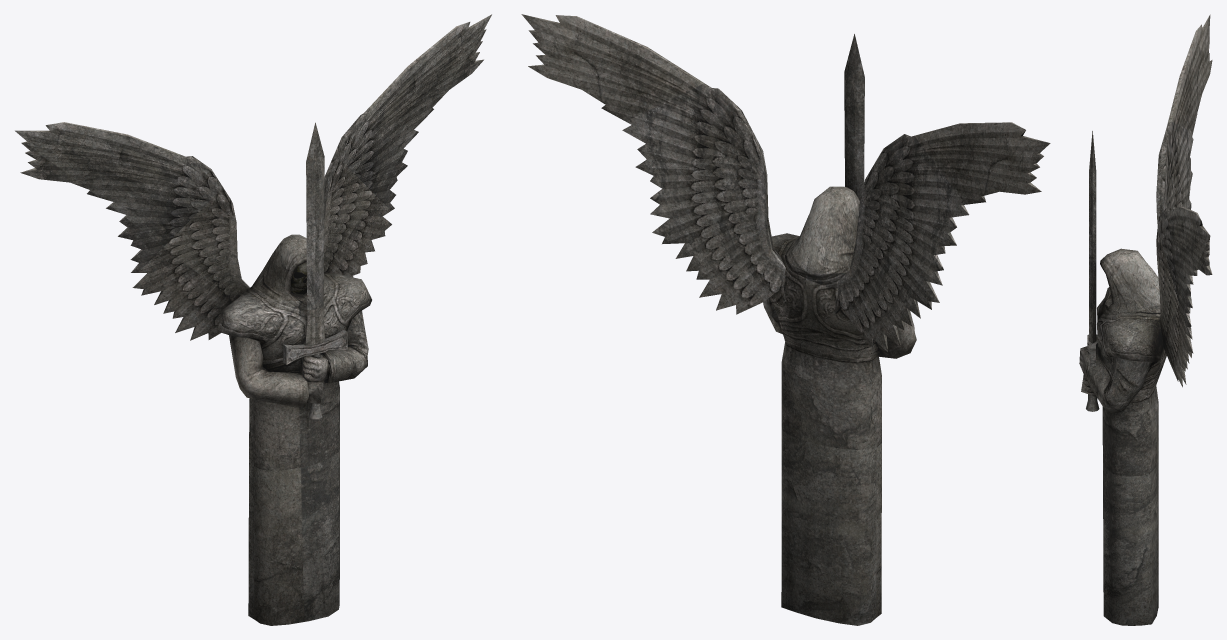
File: Statue2.fbx
3 views of the same model, side by side, from view 1: azimuth 30°, elevation 25°; view 2: azimuth 150°, elevation 25°; view 3: azimuth 270°, elevation 25° (orthographic). The views are drawn at different scales.
Parts seen in each view (by area): view 1: polySurface1128; view 2: polySurface1128; view 3: polySurface1128.
Boxes of the visible parts, box(x1,y1,x2,y2) form: polySurface1128: box(15, 14, 491, 625); polySurface1128: box(521, 14, 1050, 625); polySurface1128: box(1079, 14, 1212, 625).
Size of the model in its own units: 3.48 by 3.56 by 0.8824.
